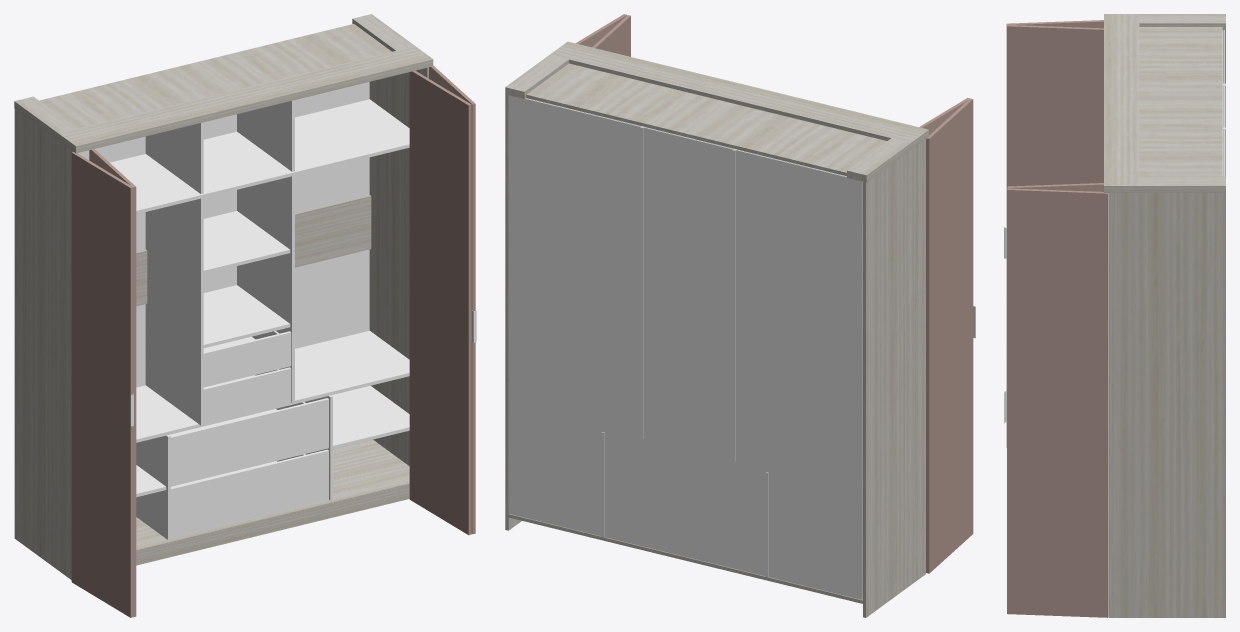
The model's file is closet_wing_line.glb.
3 renders of one model, left to right at view 1: azimuth 30°, elevation 25°; view 2: azimuth 150°, elevation 25°; view 3: azimuth 270°, elevation 25°, orthographic. The views are drawn at different scales.
Visible parts, largest first — view 1: Karkas_Bej_glyanec_0, Korpus_Vert_0, Stvorka_R_Material #66_0, Stvorka_L_Material #66_0, Korpus_Gor_0; view 2: Karkas_Bej_glyanec_0.001, Korpus_Vert_0, Stvorka_L_Material #66_0, Korpus_Gor_0, Karkas_Bej_glyanec_0, Stvorka_R_Material #66_0; view 3: Korpus_Vert_0, Stvorka_R_Material #66_0, Stvorka_L_Material #66_0, Korpus_Gor_0, Karkas_Bej_glyanec_0.
Part boxes in pixels (box(x1,y1,x2,y2)): Karkas_Bej_glyanec_0: box(77, 82, 409, 539); Korpus_Vert_0: box(14, 46, 433, 579); Stvorka_R_Material #66_0: box(409, 66, 475, 535); Stvorka_L_Material #66_0: box(71, 149, 136, 617); Korpus_Gor_0: box(14, 14, 414, 565); Karkas_Bej_glyanec_0.001: box(509, 95, 862, 599); Korpus_Vert_0: box(505, 41, 928, 617); Stvorka_L_Material #66_0: box(919, 98, 973, 573); Korpus_Gor_0: box(505, 55, 928, 603); Karkas_Bej_glyanec_0: box(526, 98, 862, 598); Stvorka_R_Material #66_0: box(576, 14, 630, 56); Korpus_Vert_0: box(1104, 14, 1225, 617); Stvorka_R_Material #66_0: box(1007, 183, 1108, 617); Stvorka_L_Material #66_0: box(1006, 20, 1103, 447); Korpus_Gor_0: box(1104, 14, 1225, 192); Karkas_Bej_glyanec_0: box(1222, 30, 1225, 176).
Size of the model in its own units: 1.05 by 1.21 by 0.5649.
5 materials, 4 textured.
